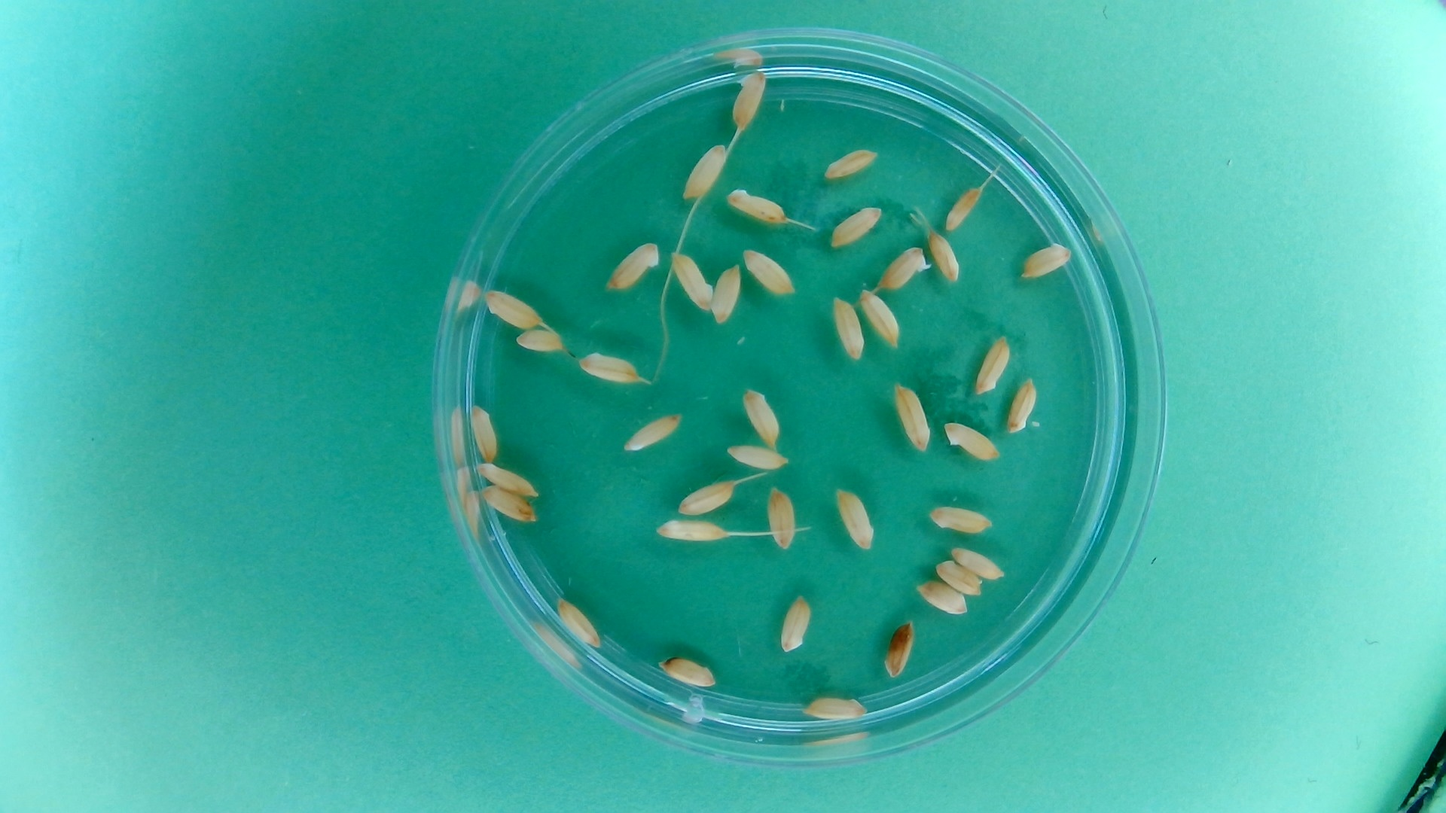no: (602, 238, 663, 294), (889, 380, 932, 454), (679, 140, 730, 201), (740, 244, 798, 297), (856, 286, 902, 350), (480, 286, 545, 331), (669, 248, 714, 313), (723, 184, 791, 227), (833, 485, 877, 551), (740, 385, 784, 448), (874, 243, 930, 292), (554, 594, 603, 650), (622, 410, 685, 453), (473, 459, 542, 498), (827, 203, 883, 251), (942, 419, 1002, 463), (477, 484, 540, 525), (972, 332, 1012, 396), (575, 350, 644, 387), (828, 294, 866, 361), (1018, 239, 1075, 282), (764, 483, 799, 550), (676, 478, 737, 516), (466, 400, 502, 464), (926, 503, 995, 536), (709, 260, 744, 325), (732, 66, 768, 129), (653, 516, 730, 545), (656, 653, 717, 689), (882, 617, 917, 679), (777, 593, 813, 653), (798, 693, 869, 723), (1004, 374, 1039, 434), (926, 228, 962, 285), (820, 147, 880, 181), (913, 579, 968, 616), (942, 183, 982, 233), (950, 545, 1005, 580), (725, 441, 789, 470), (935, 558, 984, 595), (511, 326, 568, 355)
